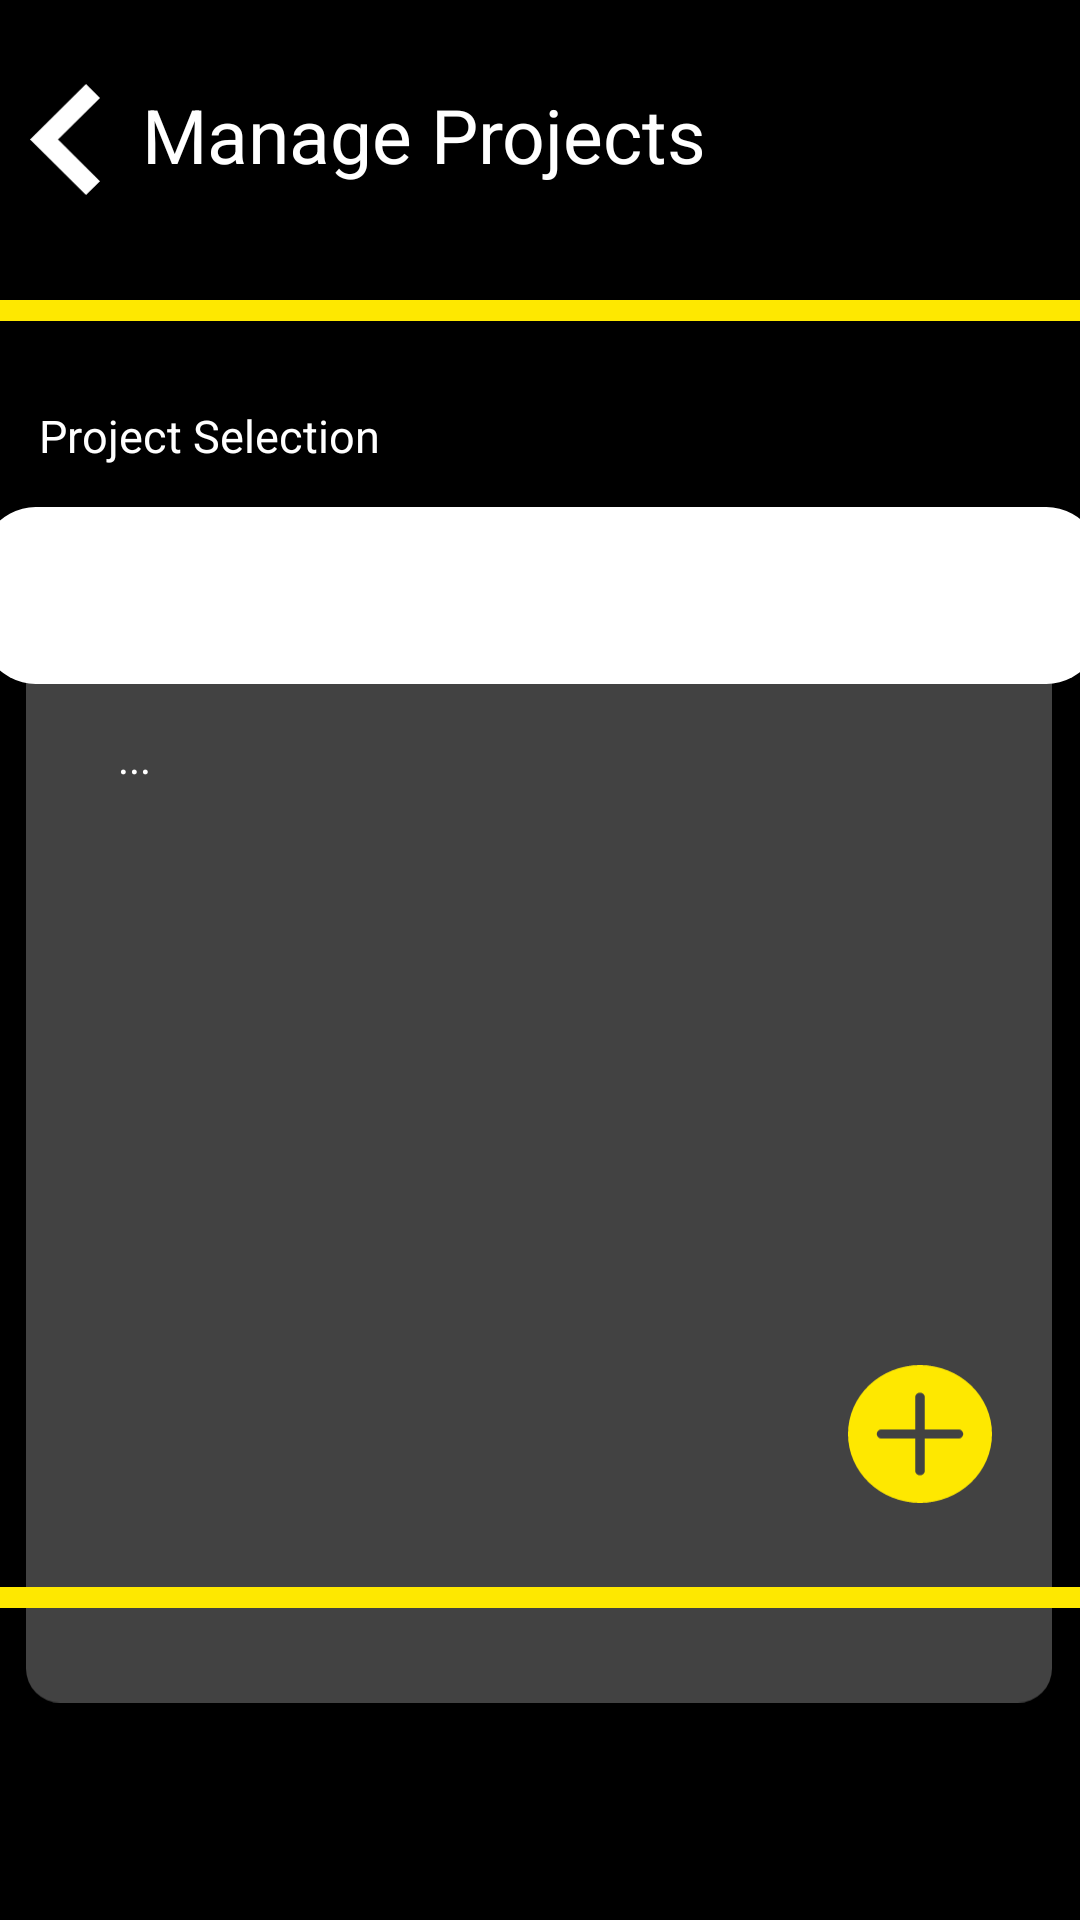

Where icons sit on this 1080px×1920px app screen, as (x1, y1, x2, y2):
backarrowsymbol: (30, 84, 100, 195)
plus symbol: (848, 1365, 992, 1503)
